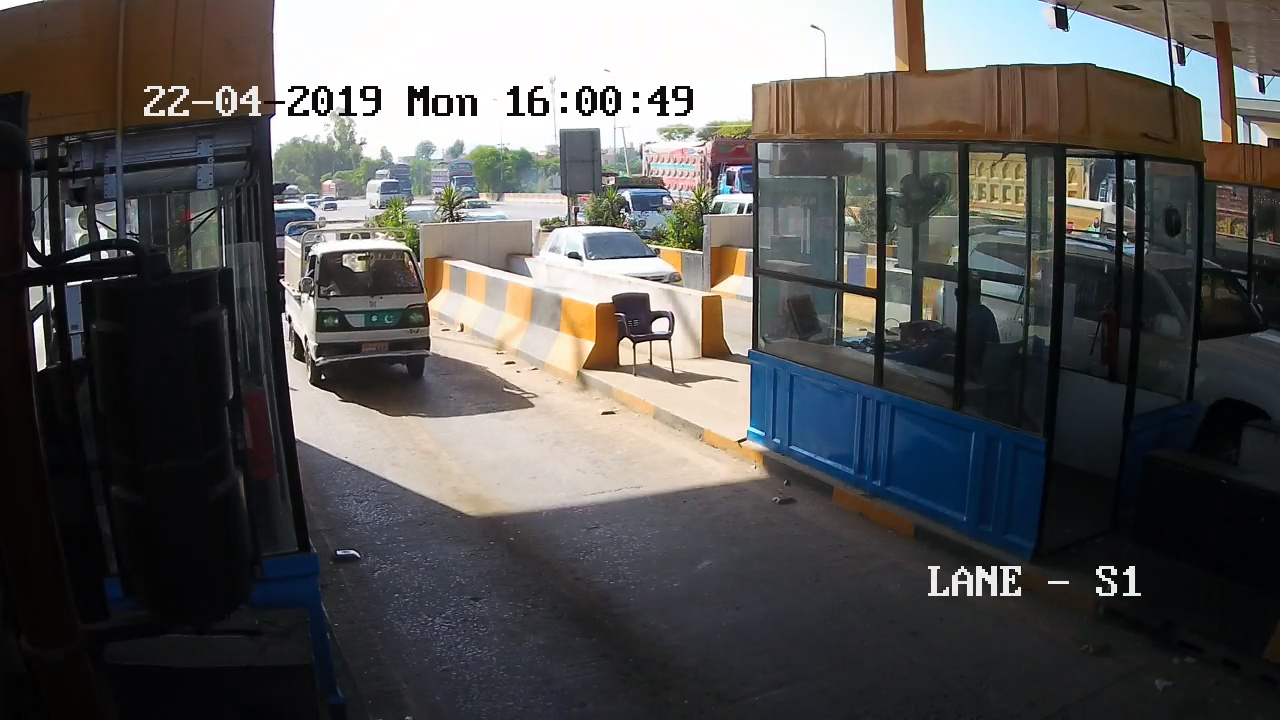car: (279, 222, 456, 413)
